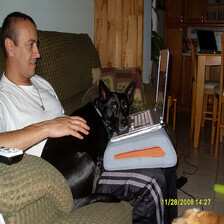laptop: (103, 45, 174, 151)
